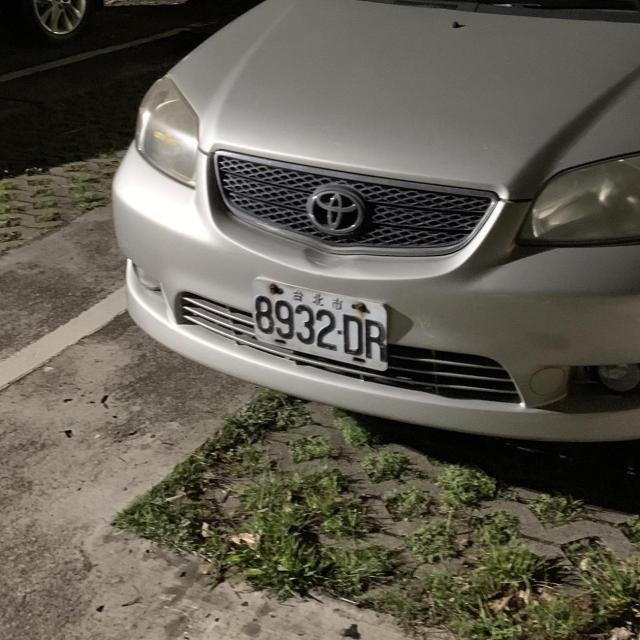W: (234, 266, 402, 378)
